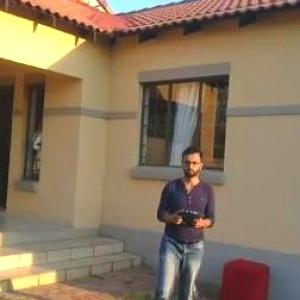follow: (146, 139, 220, 299)
